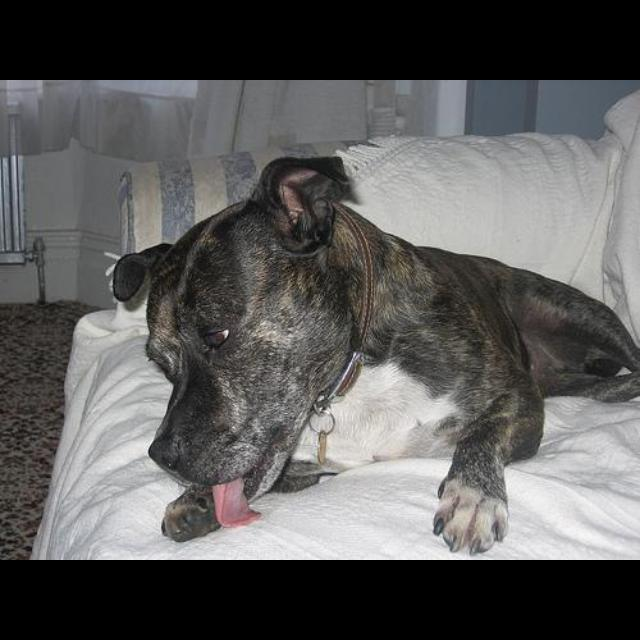staffford: (109, 156, 640, 556)
